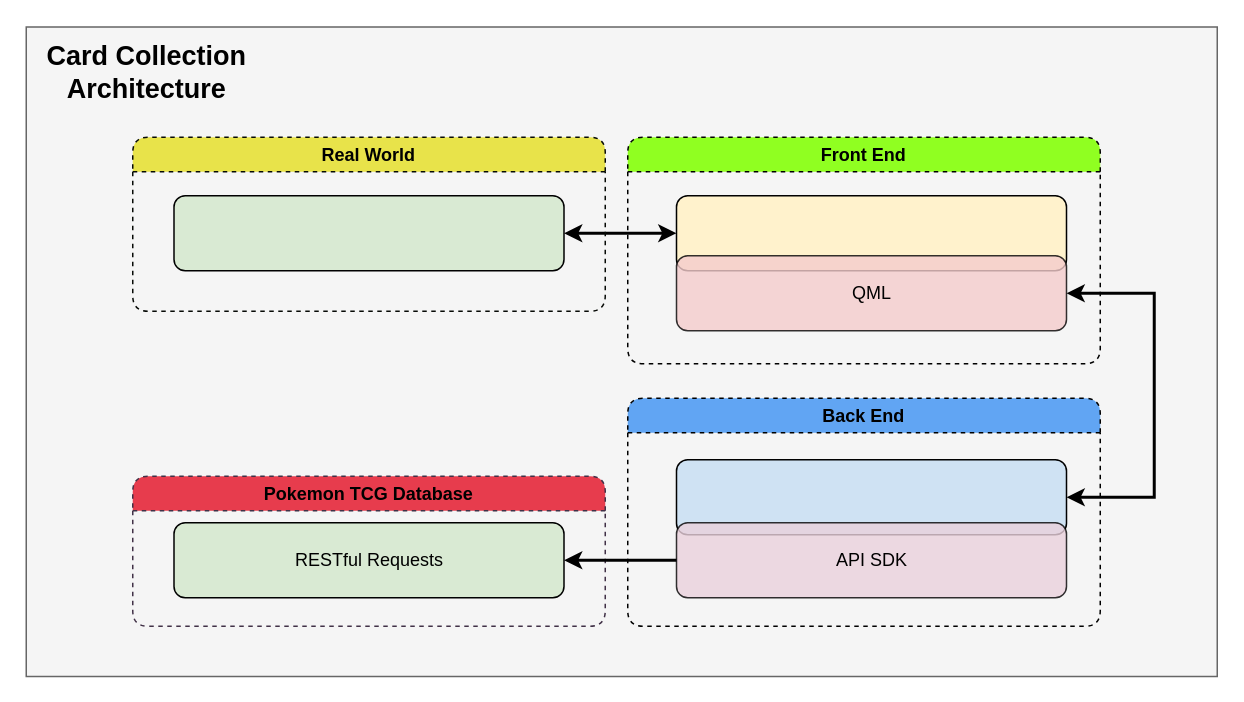
The diagram is 1244 pixels wide and 702 high, and some of its shapes have lost their labels. Each missing label, with the centre of its shape:
"GUI" goes at point (870, 232).
"Python" goes at point (870, 496).
"User" goes at point (368, 232).
